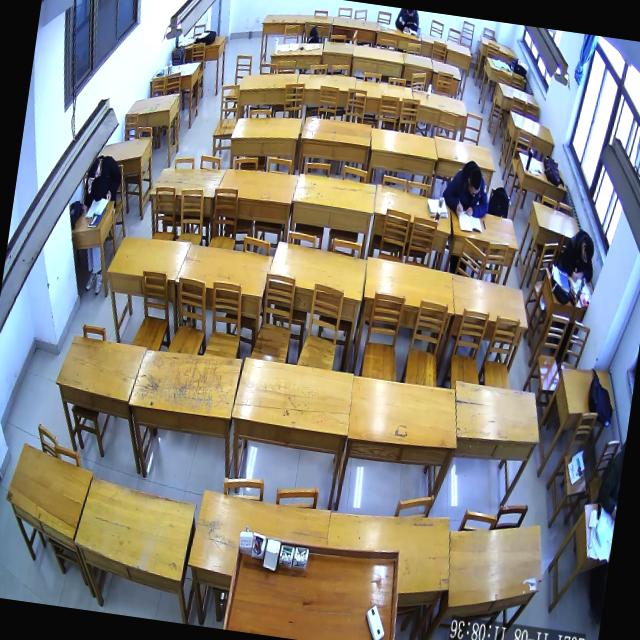down: (464, 167, 485, 201), (577, 234, 597, 268), (86, 154, 104, 183)
sit: (438, 154, 496, 225), (80, 148, 126, 215), (555, 225, 601, 286)
